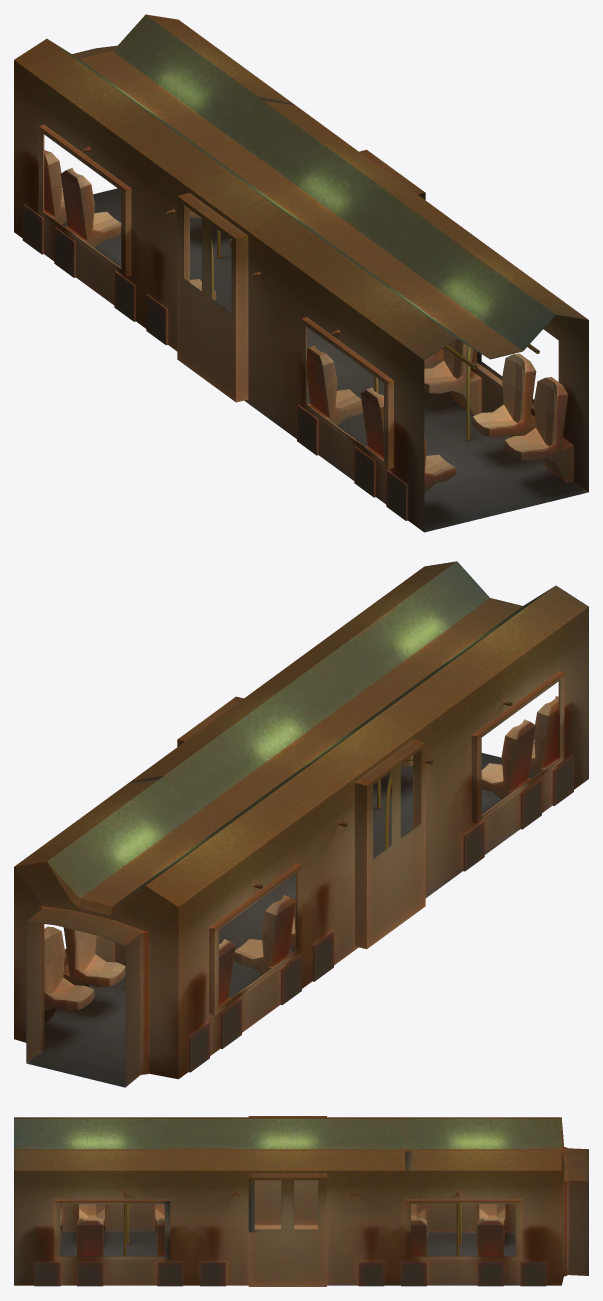
The model's file is subway-bake-transformed.glb.
The picture shows the model from 3 angles, top to bottom: view 1: azimuth 30°, elevation 25°; view 2: azimuth 150°, elevation 25°; view 3: azimuth 270°, elevation 25°; orthographic projection. The views are drawn at different scales.
Parts seen in each view (by area): view 1: Cube; view 2: Cube; view 3: Cube.
Part boxes in pixels (left/top/right/bottom): Cube: left=14, top=14, right=588, bottom=532; Cube: left=14, top=561, right=588, bottom=1087; Cube: left=14, top=1116, right=588, bottom=1286.
Bounding box in the file's own units: 2.3 × 2.17 × 9.06.
Materials: 1 (1 with a texture image).
